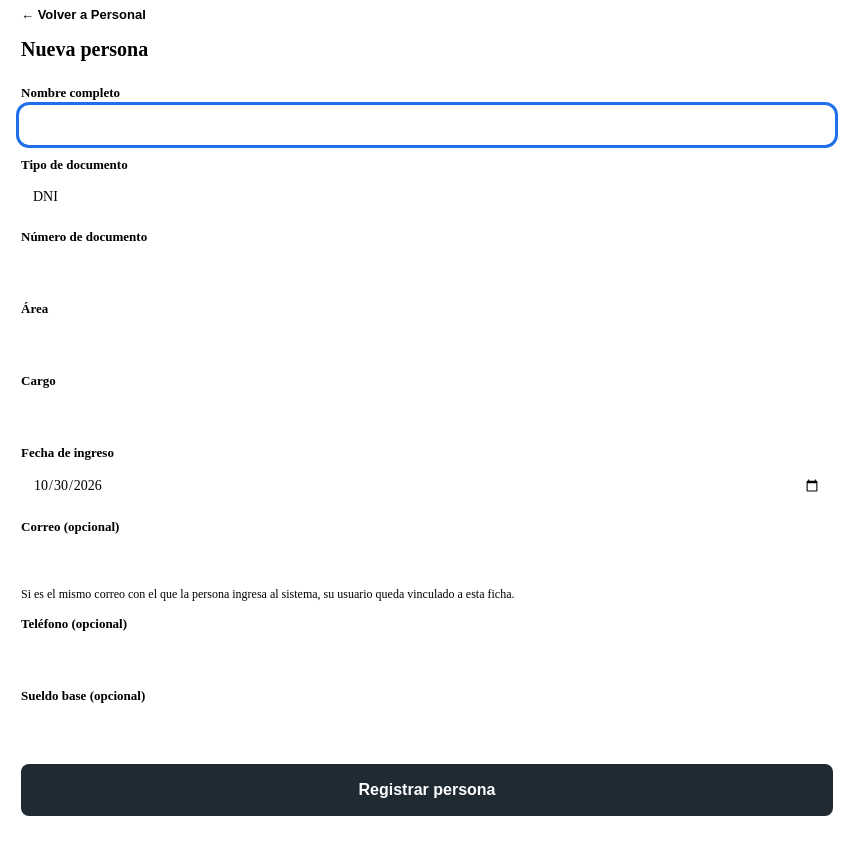
Test case: NewEmployeeScreen (alta de personal) › foco en el nombre y valida los obligatorios
(page scrolled)
Click the button "Registrar persona": (427, 790) [21, 764, 833, 816]
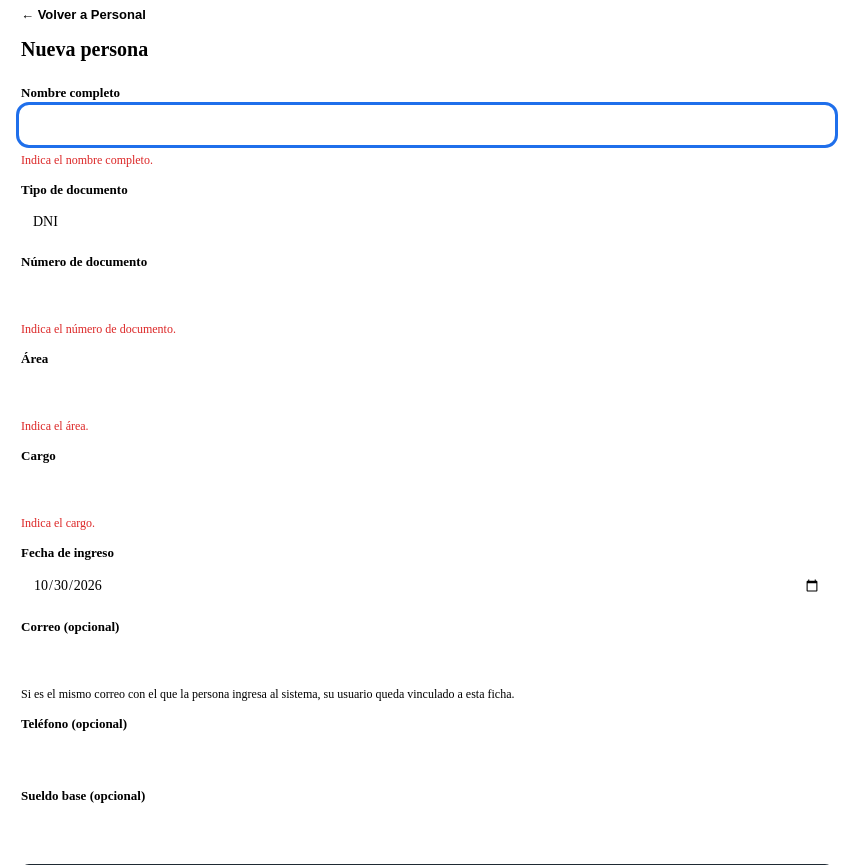
Check: the text "Indica el nombre completo." is shown, box [21, 153, 153, 167]
Check: the text "Indica el número de documento." is shown, box [21, 322, 176, 336]
